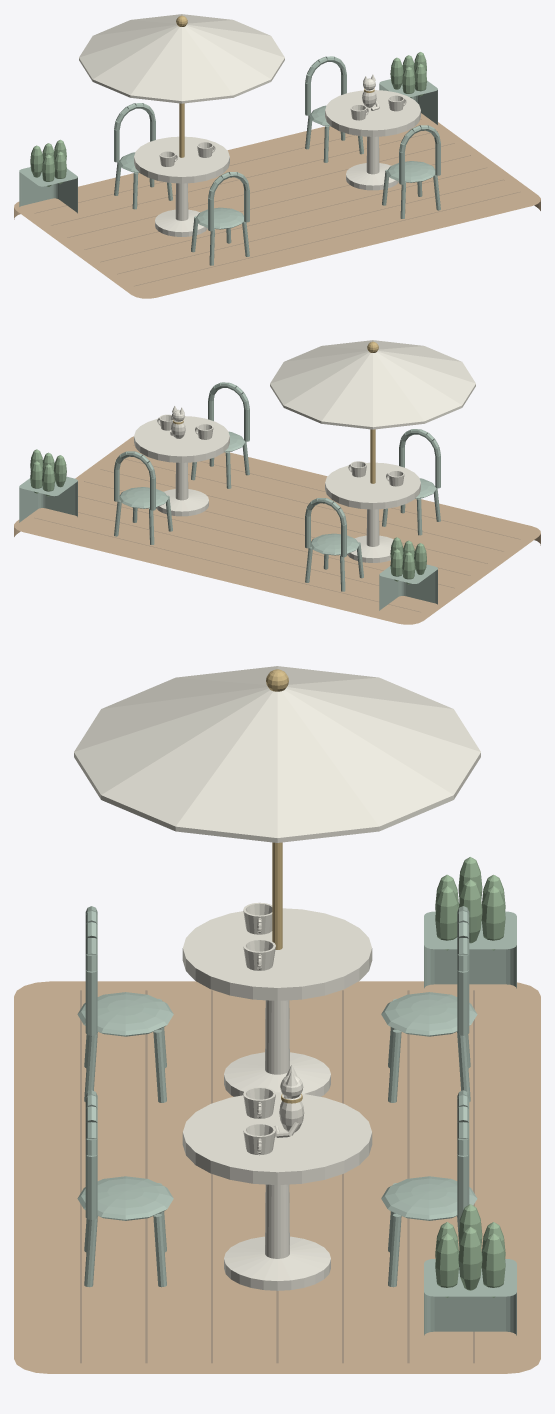
File: komichi-cafe-terrace-cat.glb
3 renders of one model, top to bottom at view 1: azimuth 30°, elevation 25°; view 2: azimuth 150°, elevation 25°; view 3: azimuth 270°, elevation 25°, orthographic. The views are drawn at different scales.
Visible parts, largest first — view 1: Terrace_Deck, Umbrella, Table_0, Table_1, Planter_-2.3, Planter_2.3, Chair_1_1, Chair_0_1, Chair_0_-1, Chair_1_-1, Cups_1, Cups_0 (+1 smaller); view 2: Terrace_Deck, Umbrella, Table_0, Table_1, Planter_2.3, Planter_-2.3, Chair_1_-1, Chair_0_-1, Chair_0_1, Chair_1_1, Cups_0, Cups_1 (+1 smaller); view 3: Terrace_Deck, Umbrella, Table_1, Table_0, Planter_2.3, Planter_-2.3, Chair_1_1, Chair_0_-1, Chair_0_1, Chair_1_-1, Cups_1, Cups_0 (+1 smaller).
Part boxes in pixels (x1,y1,x2,y2): Terrace_Deck: (14, 113, 540, 298); Umbrella: (79, 14, 284, 157); Table_0: (134, 136, 229, 236); Table_1: (325, 90, 420, 190); Planter_-2.3: (19, 139, 77, 213); Planter_2.3: (379, 52, 437, 124); Chair_1_1: (382, 125, 440, 218); Chair_0_1: (191, 172, 249, 265); Chair_0_-1: (114, 103, 172, 209); Chair_1_-1: (305, 56, 363, 162); Cups_1: (350, 95, 406, 120); Cups_0: (159, 141, 215, 166); Terrace_Deck: (14, 436, 540, 624); Umbrella: (270, 340, 475, 483); Table_0: (325, 462, 420, 562); Table_1: (134, 416, 229, 516); Planter_2.3: (19, 449, 77, 522); Planter_-2.3: (379, 537, 437, 610); Chair_1_-1: (114, 451, 172, 544); Chair_0_-1: (305, 498, 363, 591); Chair_0_1: (382, 429, 440, 535); Chair_1_1: (191, 382, 249, 488); Cups_0: (348, 461, 404, 486); Cups_1: (157, 414, 213, 439); Terrace_Deck: (14, 981, 540, 1373); Umbrella: (74, 666, 480, 949); Table_1: (182, 1092, 372, 1290); Table_0: (182, 908, 372, 1096); Planter_2.3: (424, 1204, 516, 1335); Planter_-2.3: (424, 857, 516, 988); Chair_1_1: (77, 1090, 173, 1287); Chair_0_-1: (381, 906, 477, 1102); Chair_0_1: (77, 906, 173, 1102); Chair_1_-1: (381, 1090, 477, 1287); Cups_1: (243, 1087, 275, 1155); Cups_0: (243, 902, 275, 970).
Bounding box in the file's own units: 5.2 × 2.72 × 2.95.
